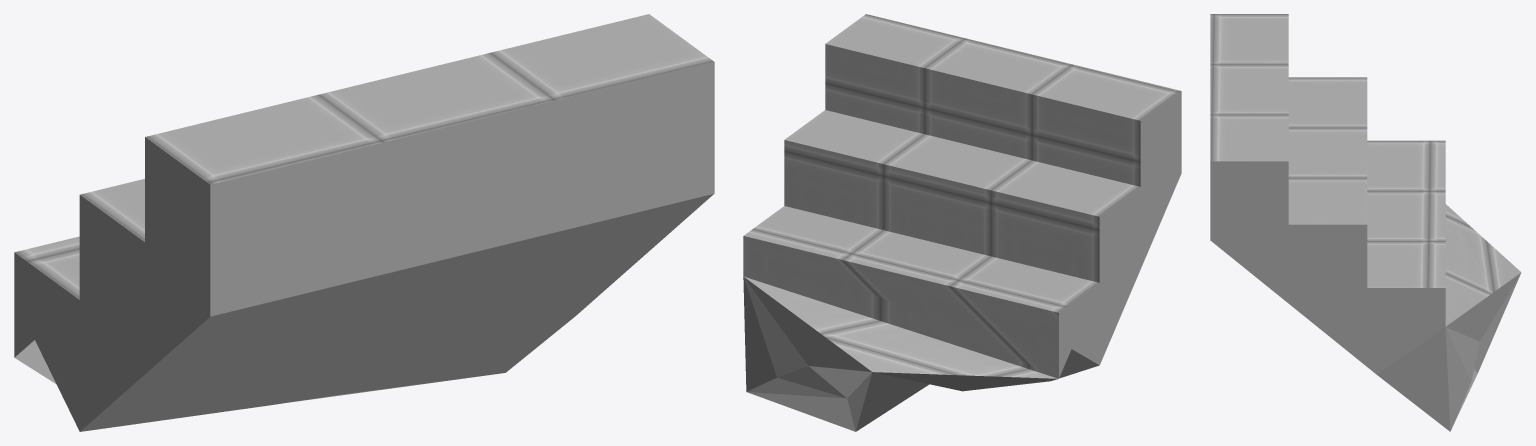
File: Stair2.fbx
The picture shows the model from 3 angles, left to right: view 1: azimuth 30°, elevation 25°; view 2: azimuth 150°, elevation 25°; view 3: azimuth 270°, elevation 25°; orthographic projection. The views are drawn at different scales.
Visible parts, largest first — view 1: Stair2; view 2: Stair2; view 3: Stair2.
Boxes of the visible parts, x1,y1,x2,y2 form: Stair2: (14, 14, 714, 431); Stair2: (743, 14, 1181, 431); Stair2: (1210, 14, 1521, 431).
Size of the model in its own units: 200 by 173 by 178.
